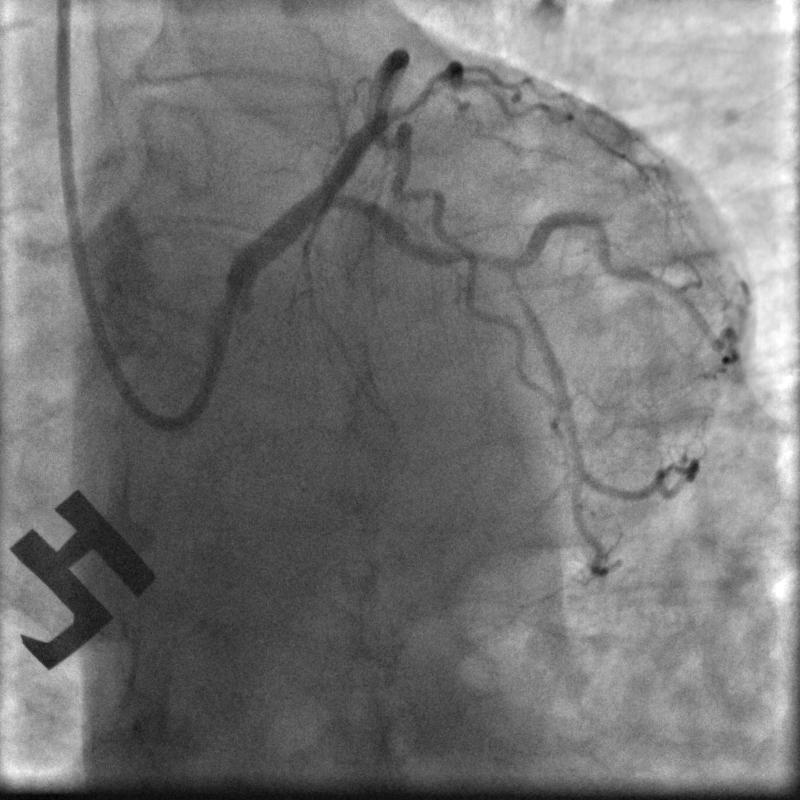Stenosis: (458, 239, 525, 292)
